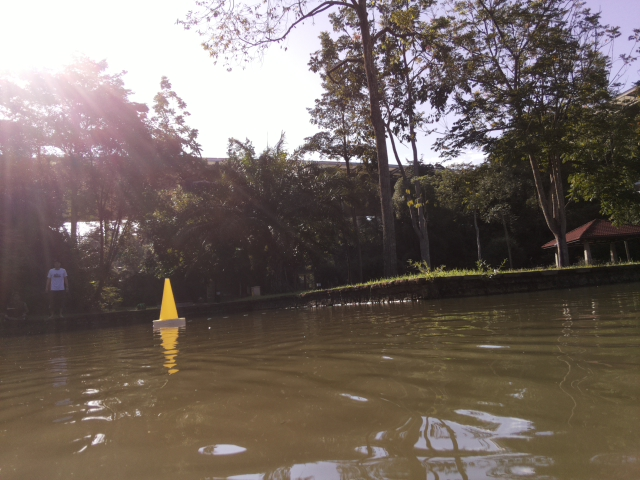checkpoint: (153, 277, 186, 329)
